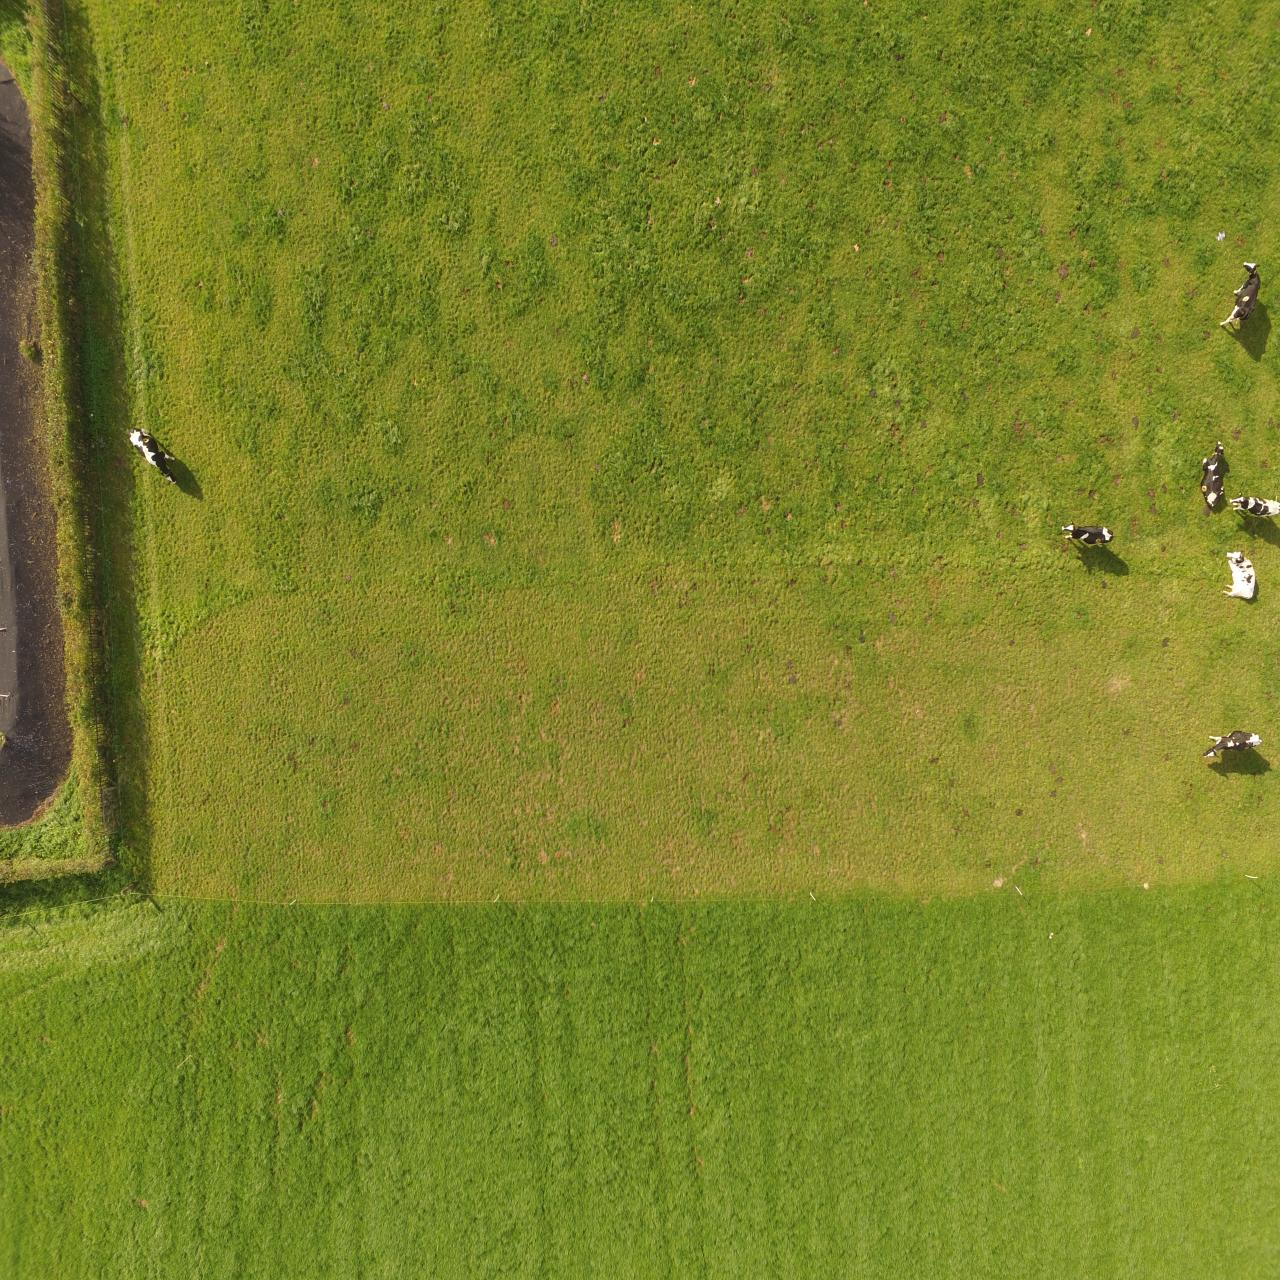cow: (125, 425, 178, 485), (1219, 259, 1261, 328), (1201, 727, 1262, 760), (1198, 437, 1225, 510), (1220, 549, 1258, 599), (1060, 518, 1118, 545), (1228, 491, 1280, 518)
